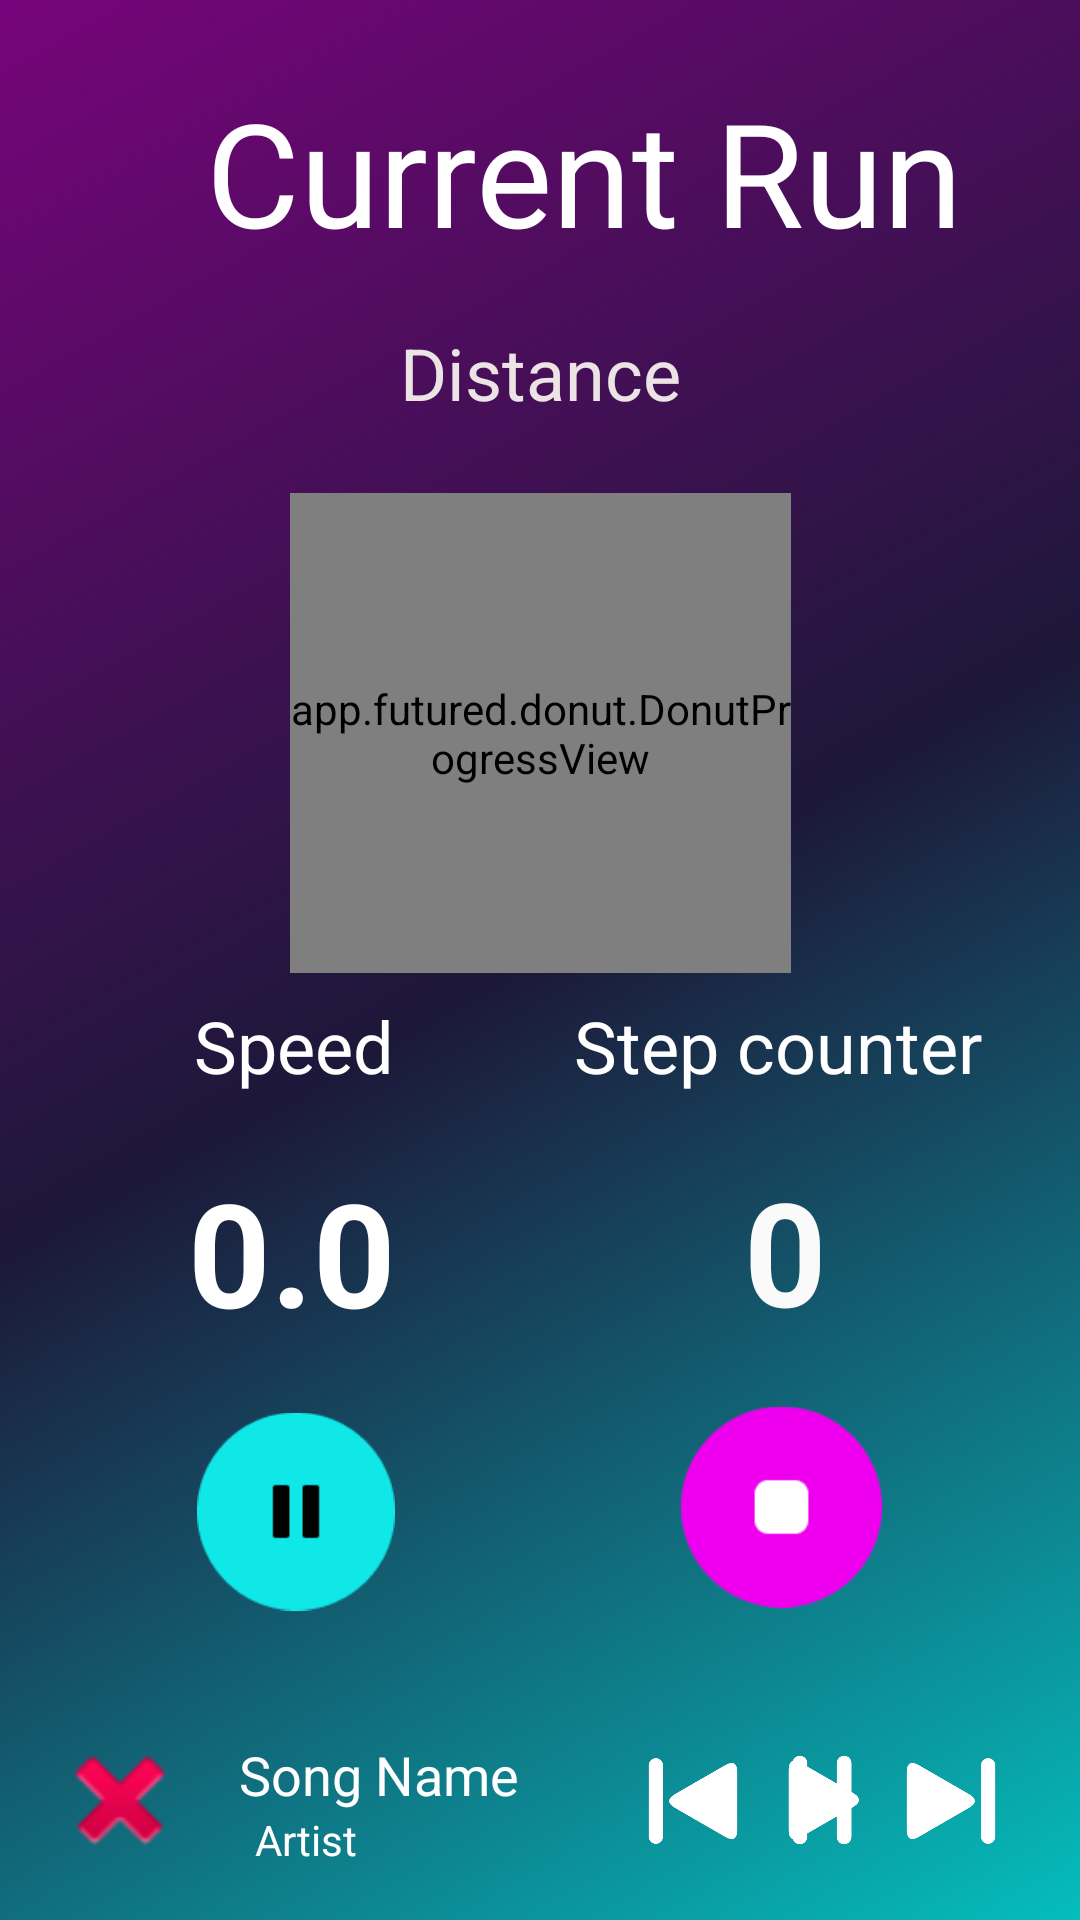

Icon bounding boxes for this 1080*1920 phone screenshot, format (x1, y1, x2, y2):
backbtn: (648, 1758, 738, 1844)
bluepause: (197, 1413, 395, 1627)
delete: (74, 1756, 166, 1845)
pinkstop: (681, 1407, 882, 1618)
